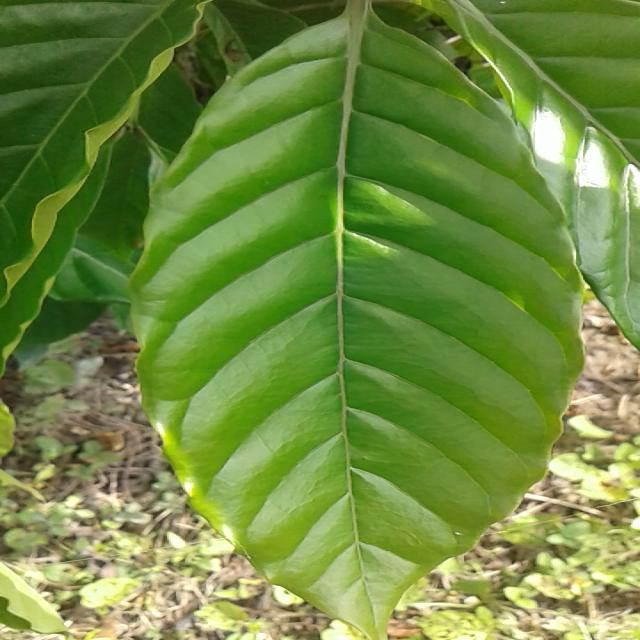Sanas: (126, 0, 585, 640)
